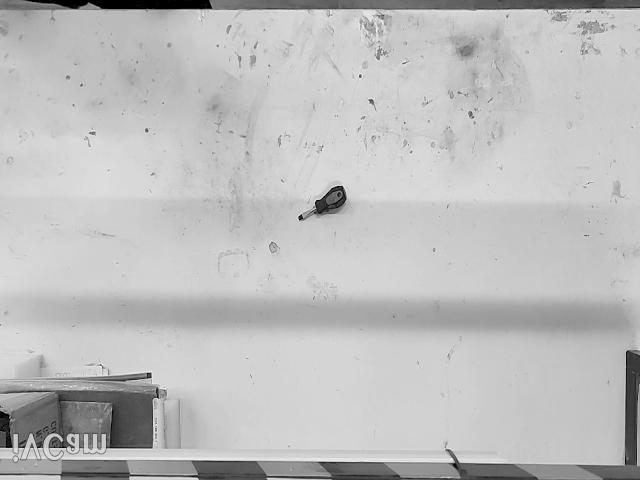Screwdriver: (298, 185, 348, 221)
